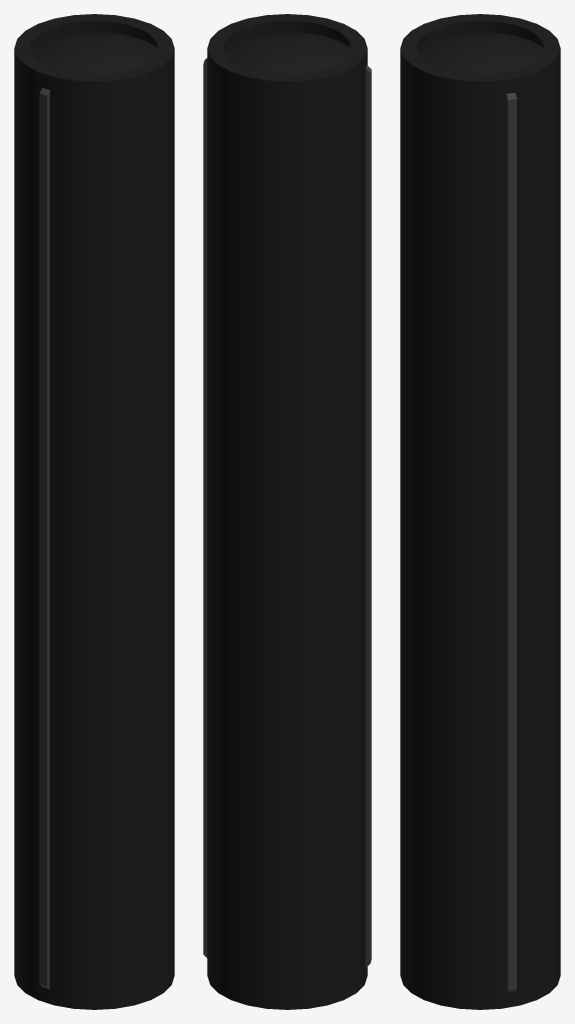
File: tantares_lv_fuel_tank_s1_4.obj
3 views of the same model, side by side, from view 1: azimuth 30°, elevation 25°; view 2: azimuth 150°, elevation 25°; view 3: azimuth 270°, elevation 25° (orthographic).
Visible parts, largest first — view 1: tantares_lv_fuel_tank_s1_3; view 2: tantares_lv_fuel_tank_s1_3; view 3: tantares_lv_fuel_tank_s1_3.
Part boxes in pixels (x1,y1,x2,y2): tantares_lv_fuel_tank_s1_3: [14, 14, 174, 1009]; tantares_lv_fuel_tank_s1_3: [203, 14, 371, 1009]; tantares_lv_fuel_tank_s1_3: [400, 14, 560, 1009].
Size of the model in its own units: 1.25 by 8 by 1.25.
